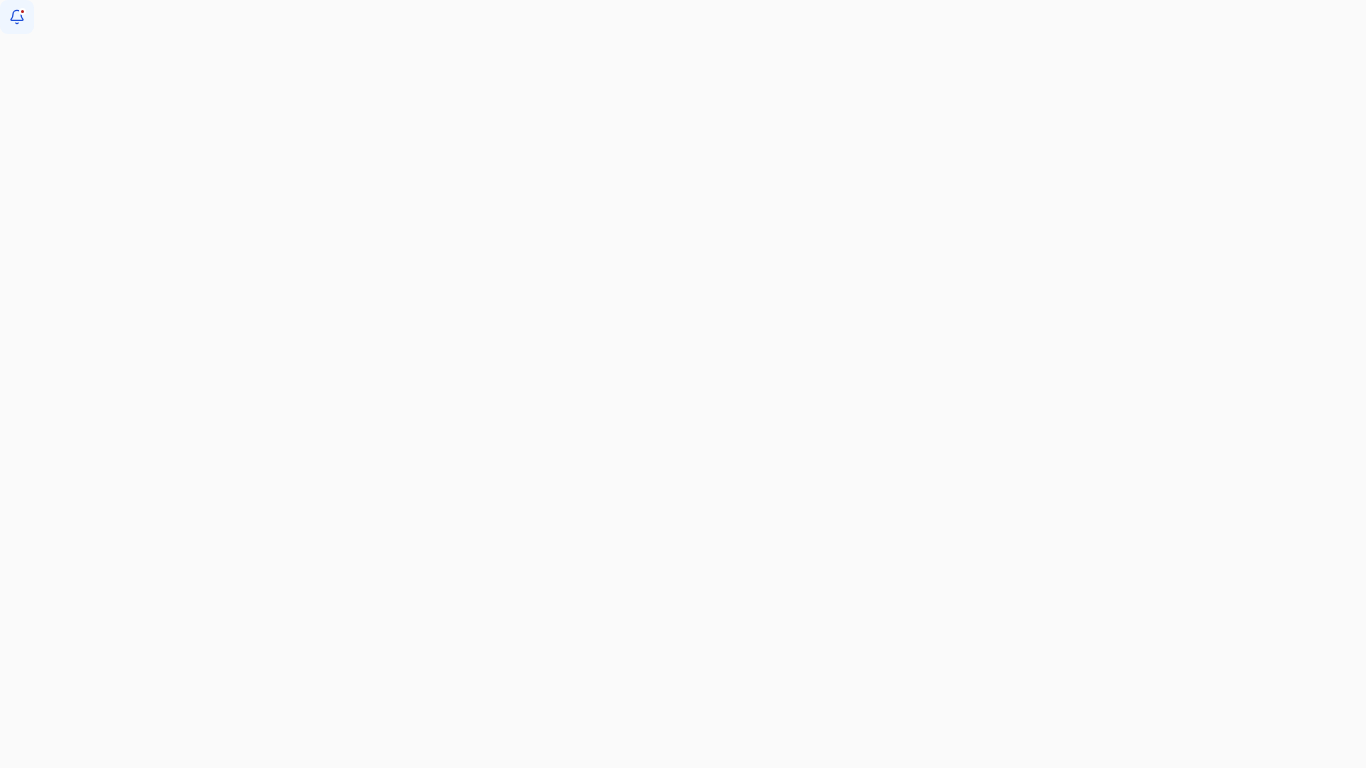
#192 the bell: a member’s task notifications › answers an offer in the panel: the receiver cannot open a record that is not theirs yet
Later steps or results of the test are not shown.
Click the button named "Notifications, 1 unread": [17, 17] box [0,0,34,34]
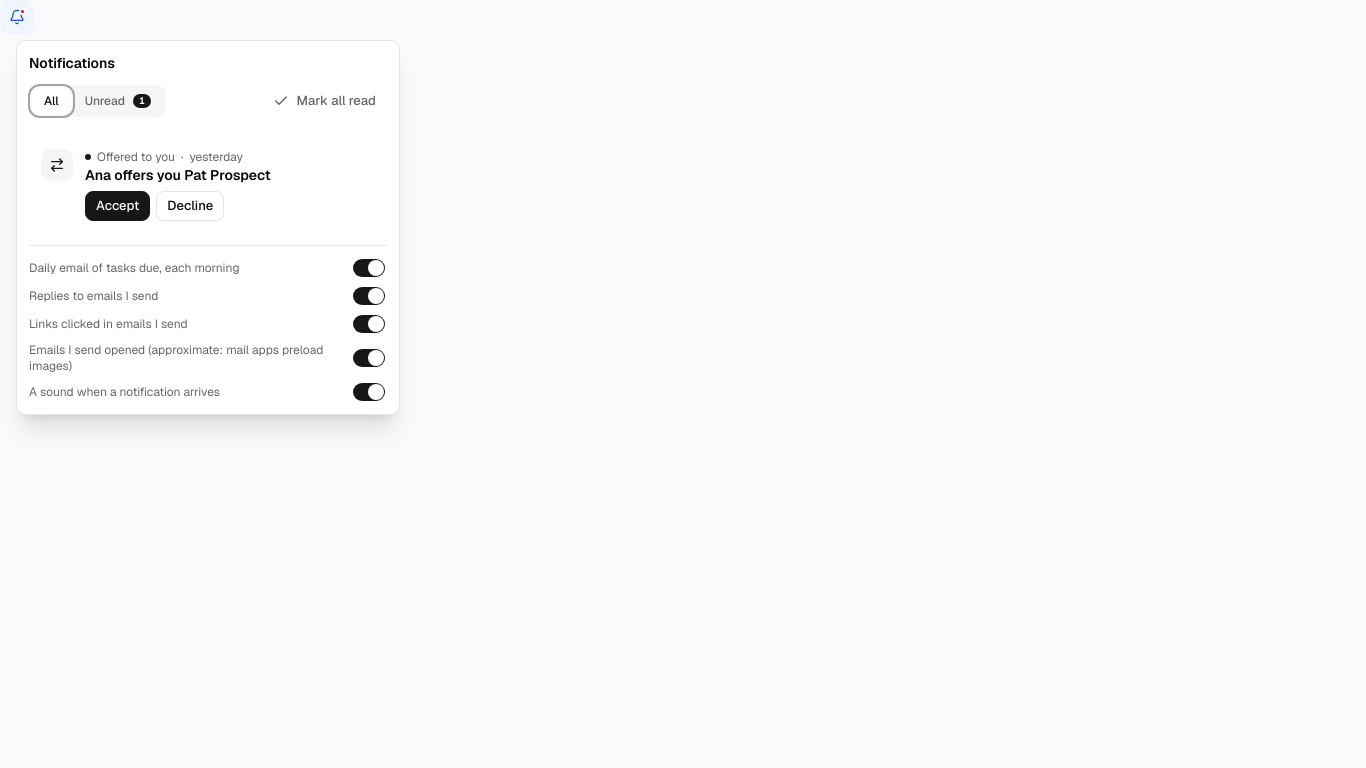
Now the text "Ana offers you Pat Prospect" is shown, box [85,166,271,184]
Now the button "Decline" is shown, box [156,191,224,221]
